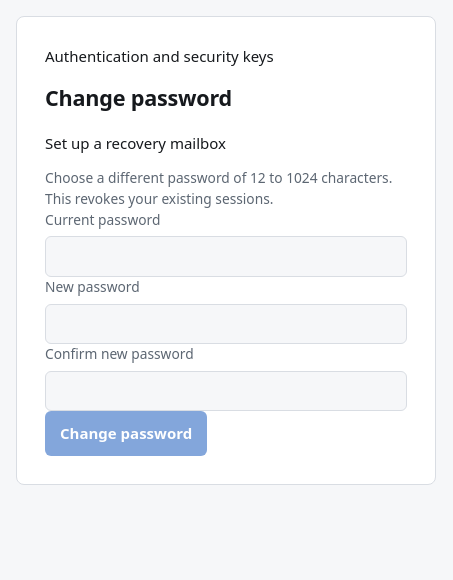
Test: retains no credentials after a throttled attempt and never retries
In the password field labelled "Current password": (226, 257) [45,236,407,277], type "synthetic-current"
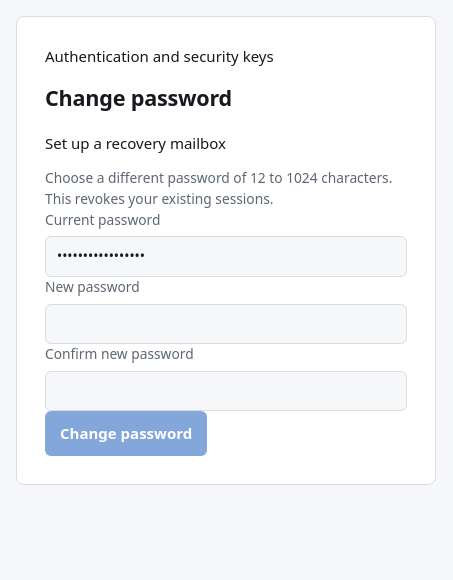
In the password field labelled "New password": (226, 324) [45,304,407,344], type "synthetic-replacement"
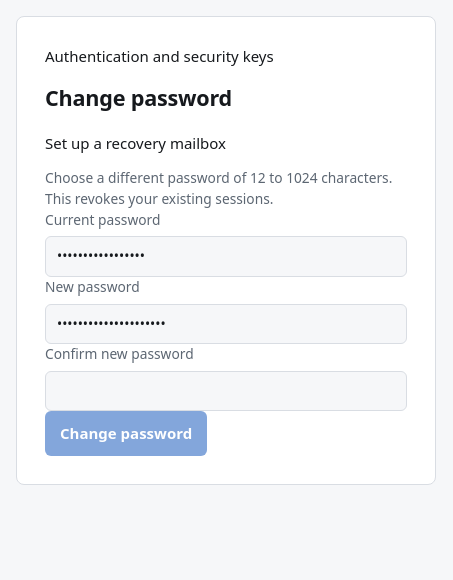
In the password field labelled "Confirm new password": (226, 391) [45,371,407,411], type "synthetic-replacement"
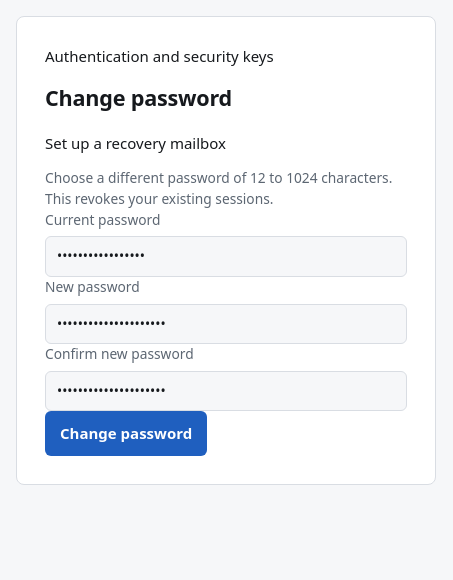
Submit the form, box [45,168,407,456]
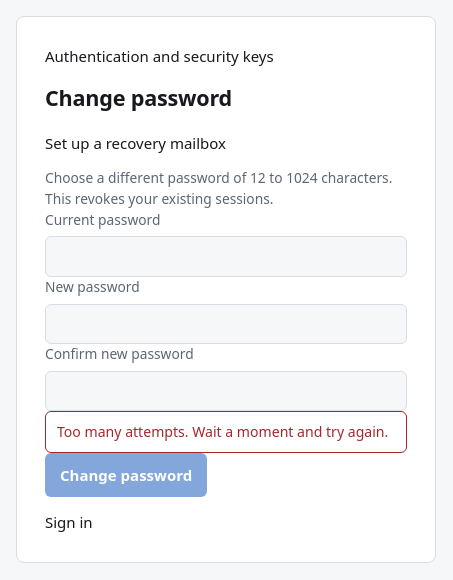
Expected: the message "Too many attempts. Wait a moment and try again." is shown, [45,412,407,453]
